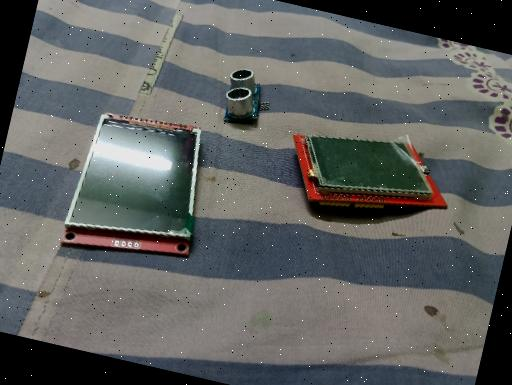Display: (58, 100, 218, 274), (277, 114, 461, 234)
sensor: (220, 64, 278, 130)
